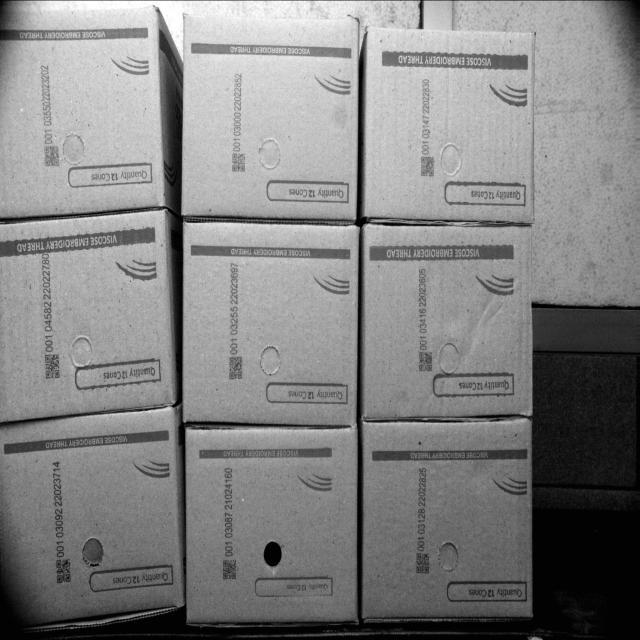box: (0, 208, 174, 422), (0, 416, 178, 624), (184, 17, 360, 218), (185, 423, 360, 623), (362, 417, 534, 620), (180, 223, 356, 421), (0, 5, 162, 217), (360, 227, 532, 418), (366, 32, 534, 216)
